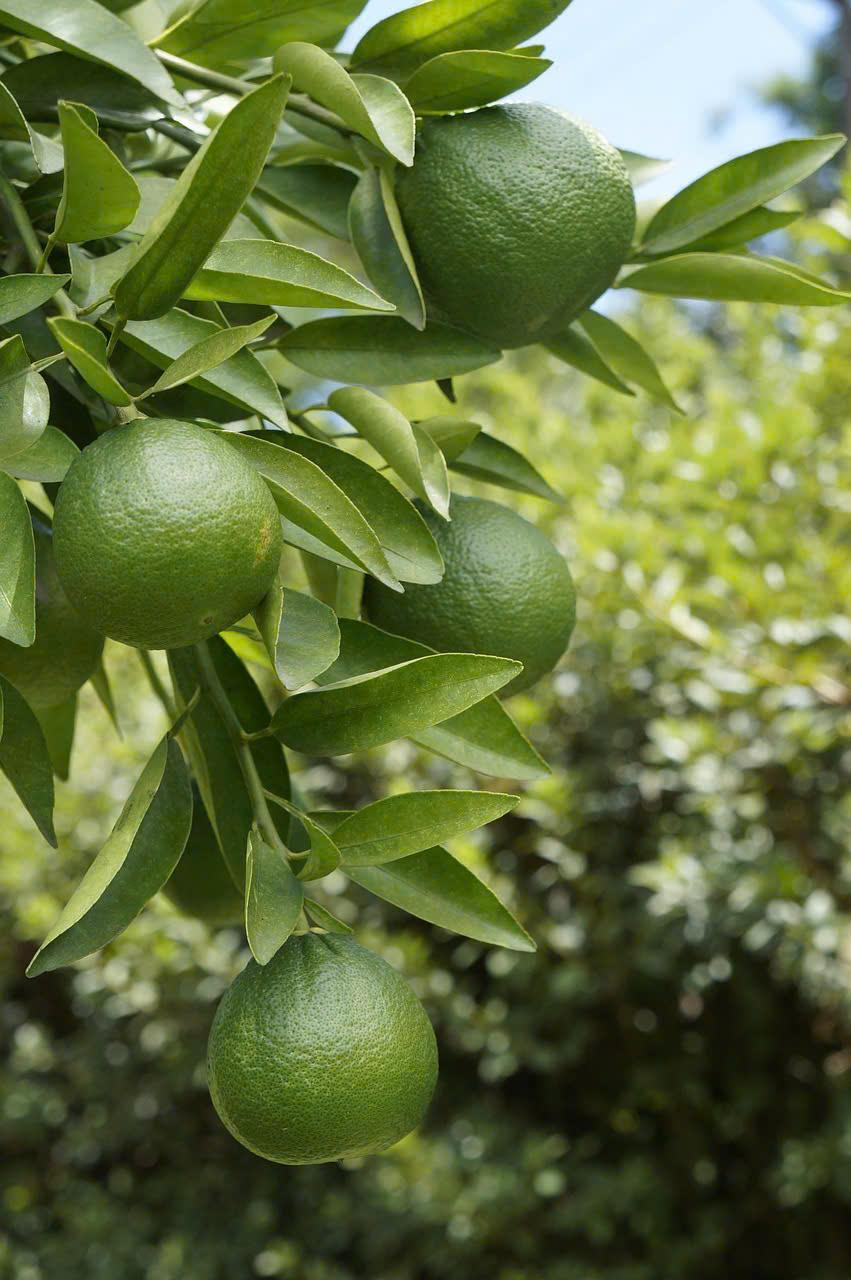kiwi: (47, 395, 308, 684), (190, 910, 468, 1174), (385, 95, 654, 361)
